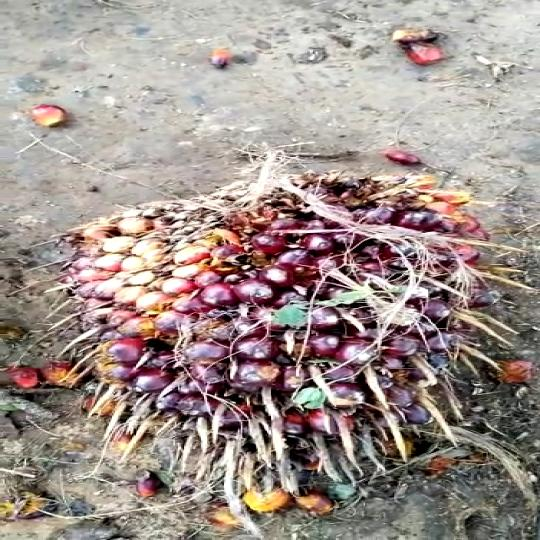masak: (19, 154, 540, 527)
